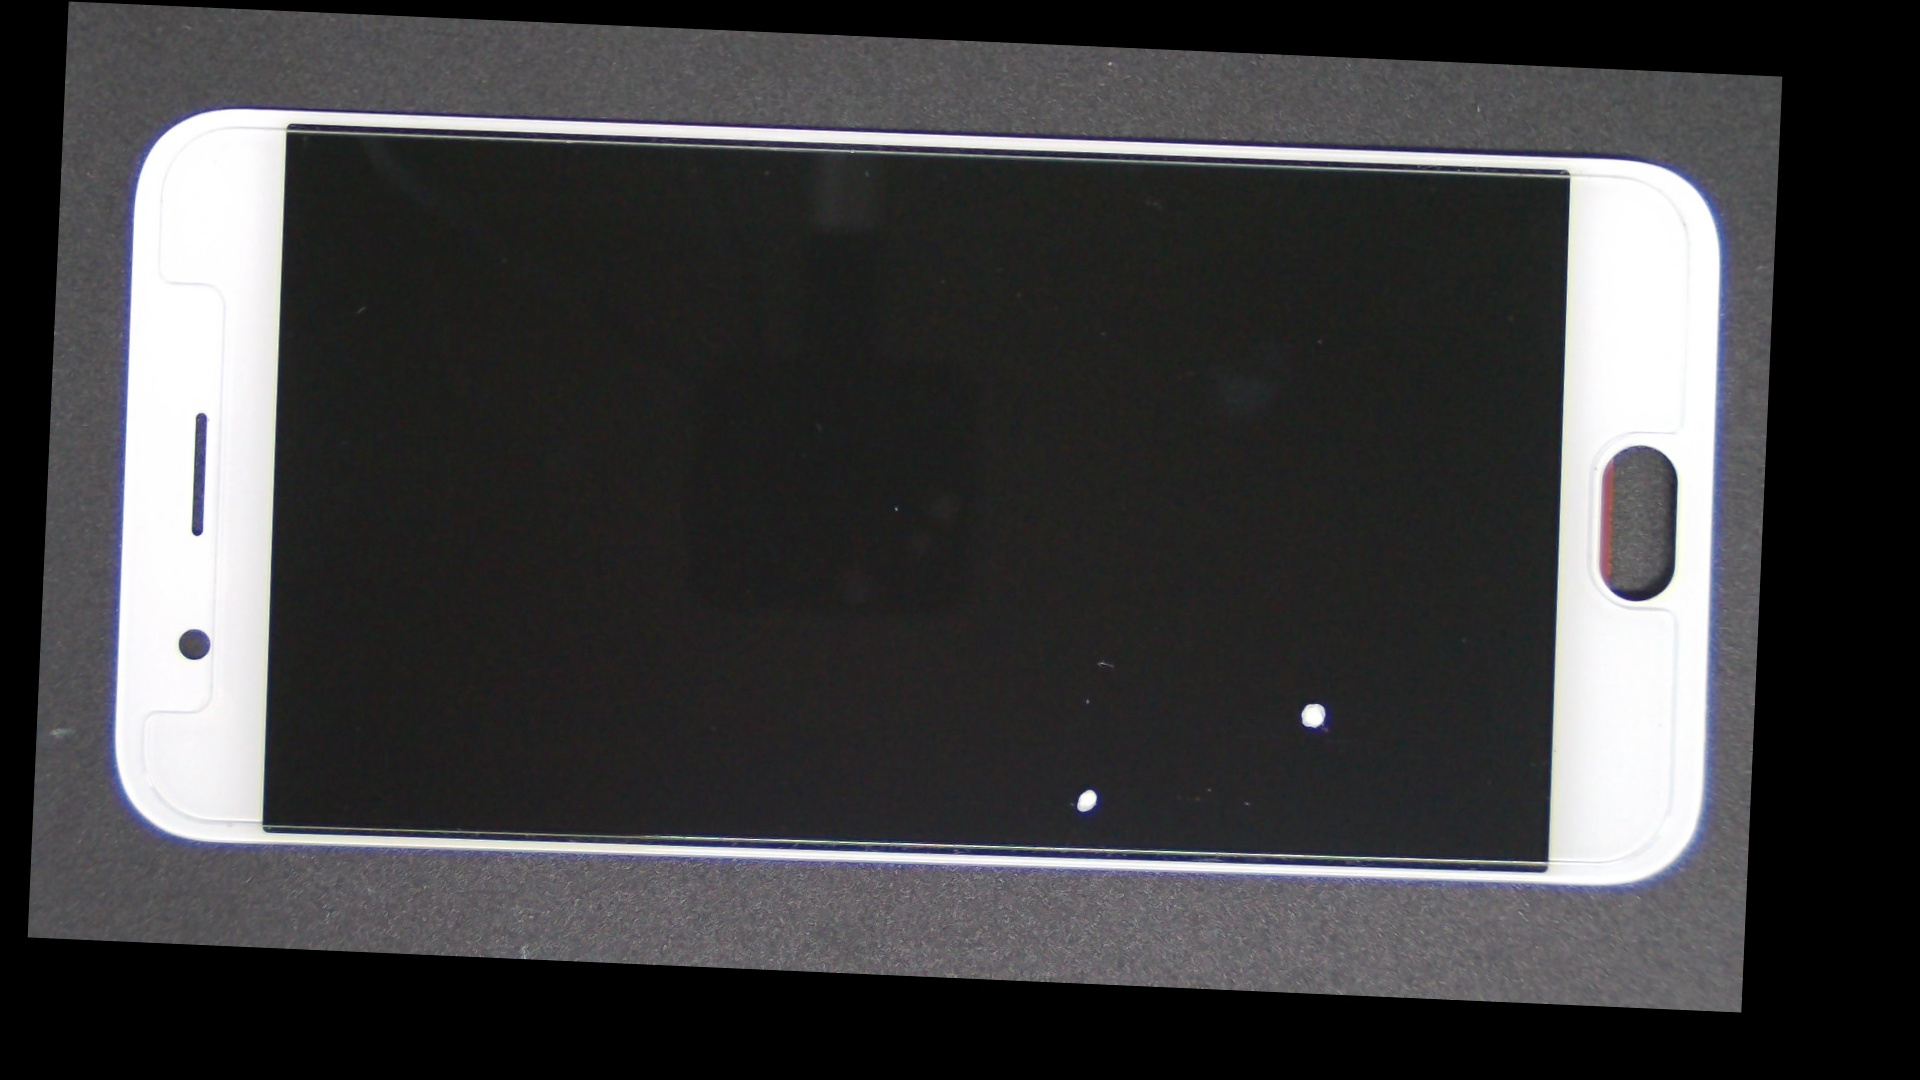oil: (665, 351, 1768, 1013), (554, 394, 1626, 1006)
